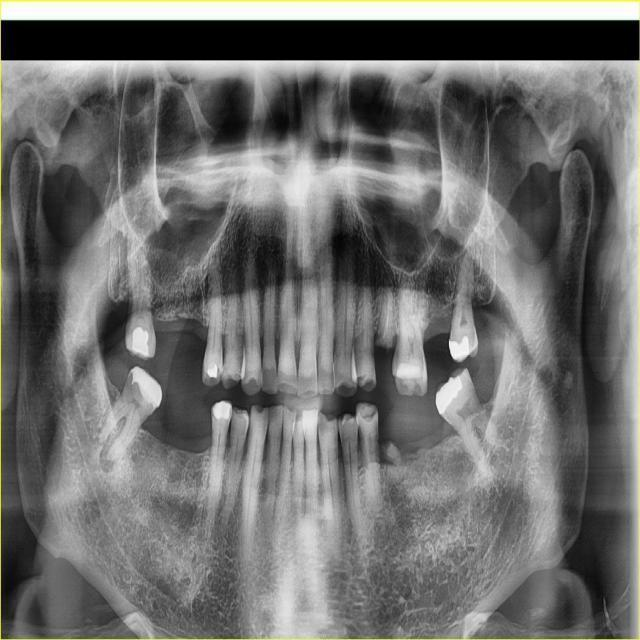Caries: (252, 403, 271, 413), (234, 404, 249, 415), (363, 408, 375, 421), (320, 412, 338, 420), (357, 375, 365, 387)
Filling: (131, 367, 162, 409), (436, 376, 463, 414), (396, 360, 421, 382), (449, 335, 469, 361), (132, 327, 149, 357), (213, 401, 232, 421), (207, 361, 218, 376)
Missing teeth: (138, 407, 212, 453), (400, 404, 459, 457), (152, 314, 208, 367), (424, 331, 458, 388)
Periapical lesion: (99, 430, 122, 473)
Root Piece: (375, 263, 395, 350), (382, 442, 401, 466)
